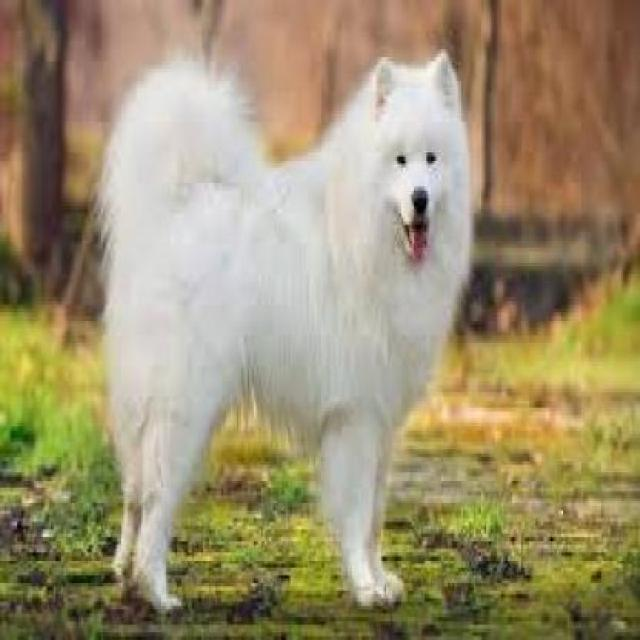animals: (91, 26, 508, 640)
